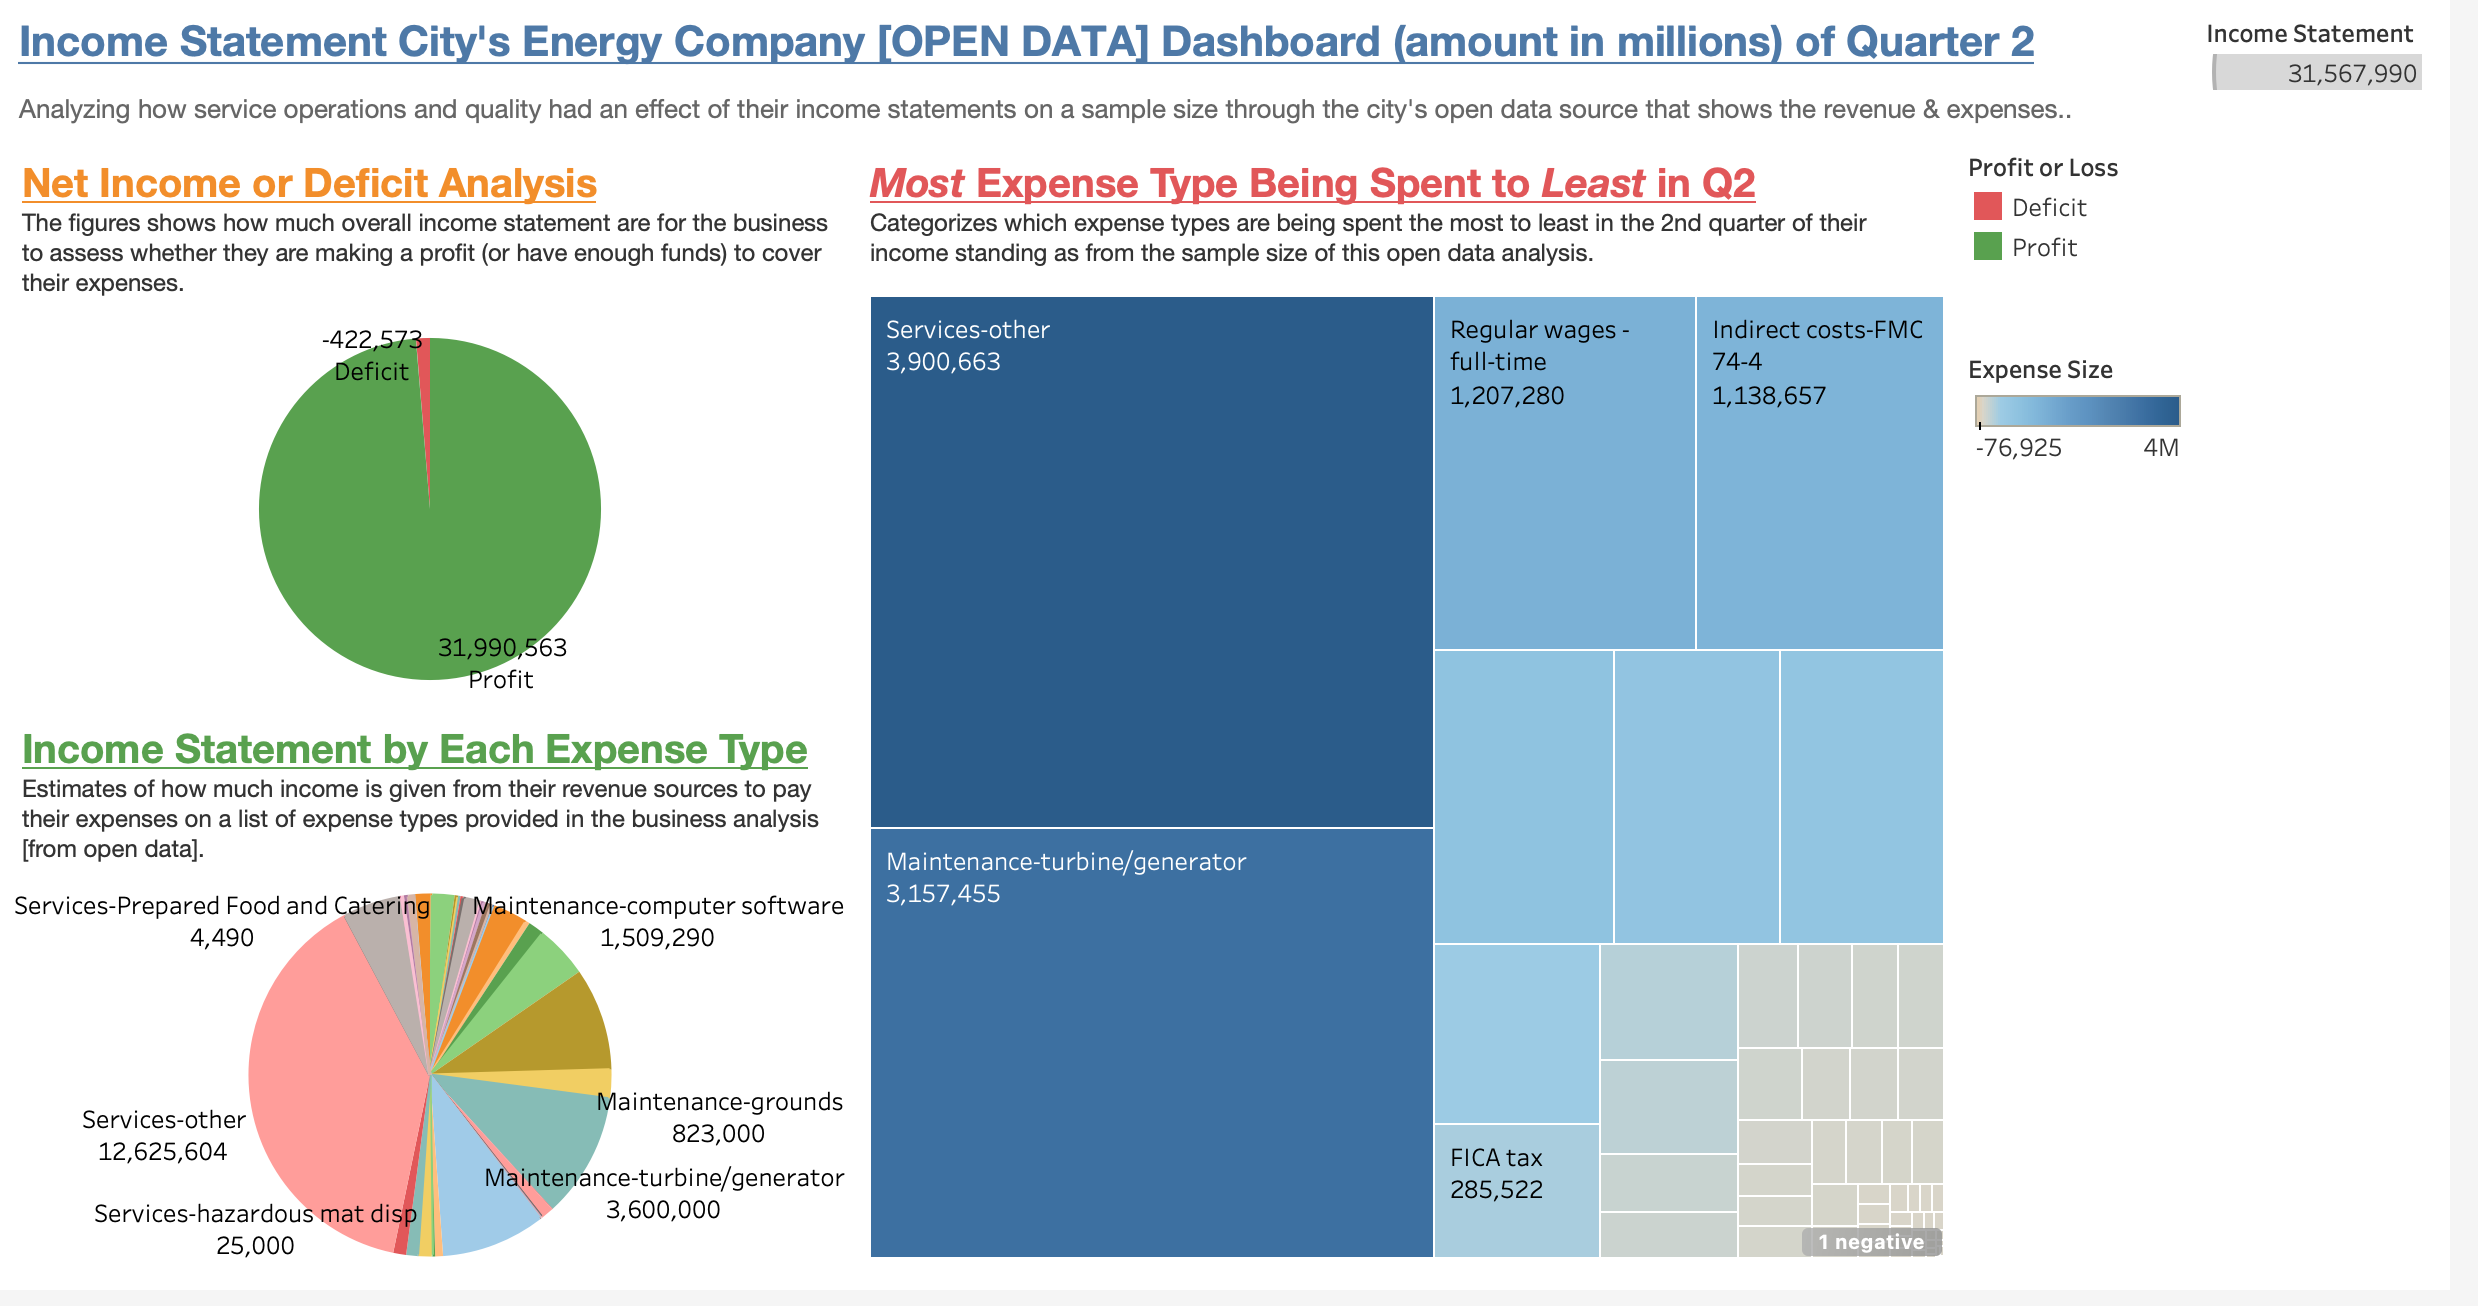

What the dashboard file says about the page in this screenshot:
{"tool":"tableau","page":{"name":"Dashboard 1","canvas":[1000,1000],"units":"permille","ordinal":0},"visuals":[{"type":"title","box":[6.5,12.3,891.1,52.4]},{"type":"legend","title":"Income Statement by Each Expense Type","param":"[federated.0o9qd2i1g9bphn10kv94p1e1pv1i].[sum:Income Statement:qk]","box":[897.6,12.3,95.9,70.9]},{"type":"text","box":[6.5,64.7,877.5,51.4]},{"type":"worksheet","title":"Net Income or Deficit for Energy Company's Statement","mark":"Pie","box":[6.5,116.1,344.4,435.7]},{"type":"worksheet","title":"Expense Type for Company Spending","mark":"Automatic","box":[350.9,116.1,449.8,871.6]},{"type":"legend","title":"Net Income or Deficit for Energy Company's Statement","param":"[federated.0o9qd2i1g9bphn10kv94p1e1pv1i].[none:Profit or Loss:nk]","box":[800.6,116.1,97,154.5]},{"type":"legend","title":"Expense Type for Company Spending","param":"[federated.0o9qd2i1g9bphn10kv94p1e1pv1i].[sum:Total Expense:qk]","box":[800.6,270.6,97,717.1]},{"type":"worksheet","title":"Income Statement by Each Expense Type","mark":"Pie","box":[6.5,551.8,344.4,435.9]}]}

Visuals, with their boxes on the dashboard's canvas, which has no fixed pixel size, in thousandths of its width and height (x1, y1, x2, y2). These are canvas units, not pixel positions in the 2478x1306 screenshot, which may show the page scaled, cropped or inside an application window:
title: x1=6, y1=12, x2=898, y2=65
"Income Statement by Each Expense Type" legend: x1=898, y1=12, x2=994, y2=83
text: x1=6, y1=65, x2=884, y2=116
"Net Income or Deficit for Energy Company's Statement" worksheet (Pie marks): x1=6, y1=116, x2=351, y2=552
"Expense Type for Company Spending" worksheet: x1=351, y1=116, x2=801, y2=988
"Net Income or Deficit for Energy Company's Statement" legend: x1=801, y1=116, x2=898, y2=271
"Expense Type for Company Spending" legend: x1=801, y1=271, x2=898, y2=988
"Income Statement by Each Expense Type" worksheet (Pie marks): x1=6, y1=552, x2=351, y2=988
